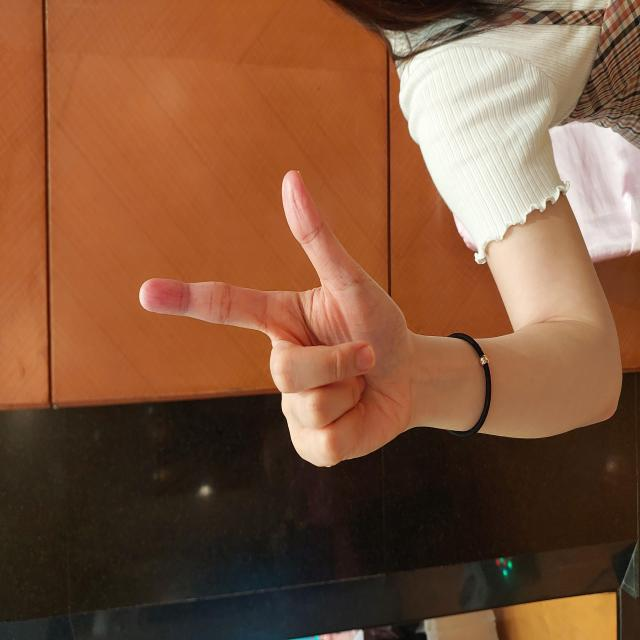L: (168, 136, 472, 414)
